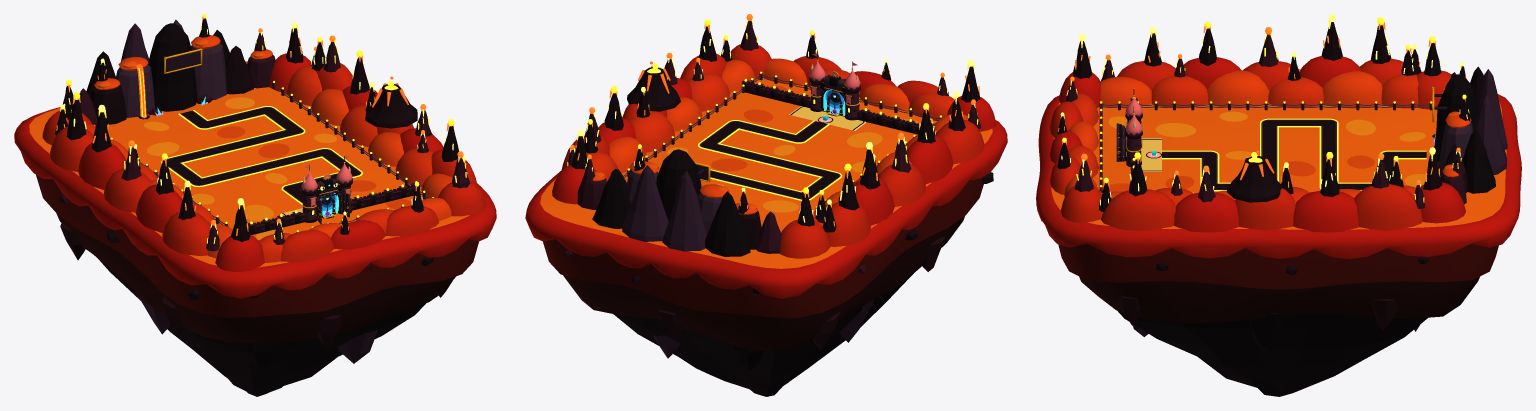
File: the_sun_base.fbx
3 views of the same model, side by side, from view 1: azimuth 30°, elevation 25°; view 2: azimuth 150°, elevation 25°; view 3: azimuth 270°, elevation 25° (orthographic). The views are drawn at different scales.
Parts seen in each view (by area): view 1: Base_Cliff, Base_Backdrop, Base_Ground, Base_Trees, Base_Glow, Base_Road, Base_Gate, Base_Dressing, Base_GateTrim; view 2: Base_Cliff, Base_Backdrop, Base_Ground, Base_Trees, Base_Road, Base_Glow, Base_Gate, Base_Dressing, Base_GateTrim; view 3: Base_Cliff, Base_Backdrop, Base_Ground, Base_Trees, Base_Glow, Base_Road, Base_Dressing, Base_Gate, Base_GateTrim.
Boxes of the visible parts, x1=… form: Base_Cliff: x1=14, y1=61, x2=496, y2=396; Base_Backdrop: x1=42, y1=19, x2=486, y2=271; Base_Ground: x1=29, y1=62, x2=469, y2=267; Base_Trees: x1=55, y1=18, x2=470, y2=251; Base_Glow: x1=56, y1=14, x2=467, y2=243; Base_Road: x1=162, y1=107, x2=361, y2=216; Base_Gate: x1=248, y1=155, x2=420, y2=234; Base_Dressing: x1=139, y1=83, x2=429, y2=232; Base_GateTrim: x1=301, y1=156, x2=352, y2=206; Base_Cliff: x1=525, y1=120, x2=1007, y2=396; Base_Backdrop: x1=552, y1=44, x2=996, y2=258; Base_Ground: x1=540, y1=78, x2=992, y2=268; Base_Trees: x1=566, y1=21, x2=981, y2=232; Base_Road: x1=699, y1=106, x2=865, y2=199; Base_Glow: x1=567, y1=14, x2=979, y2=232; Base_Gate: x1=742, y1=53, x2=920, y2=134; Base_Dressing: x1=623, y1=73, x2=942, y2=211; Base_GateTrim: x1=809, y1=53, x2=860, y2=122; Base_Cliff: x1=1036, y1=94, x2=1521, y2=396; Base_Backdrop: x1=1049, y1=56, x2=1507, y2=232; Base_Ground: x1=1051, y1=102, x2=1506, y2=229; Base_Trees: x1=1057, y1=22, x2=1470, y2=211; Base_Glow: x1=1058, y1=14, x2=1469, y2=205; Base_Road: x1=1141, y1=119, x2=1426, y2=189; Base_Dressing: x1=1099, y1=103, x2=1432, y2=192; Base_Gate: x1=1116, y1=88, x2=1161, y2=176; Base_GateTrim: x1=1125, y1=97, x2=1160, y2=157.
Bounding box in the file's own units: 188 × 179 × 244.
